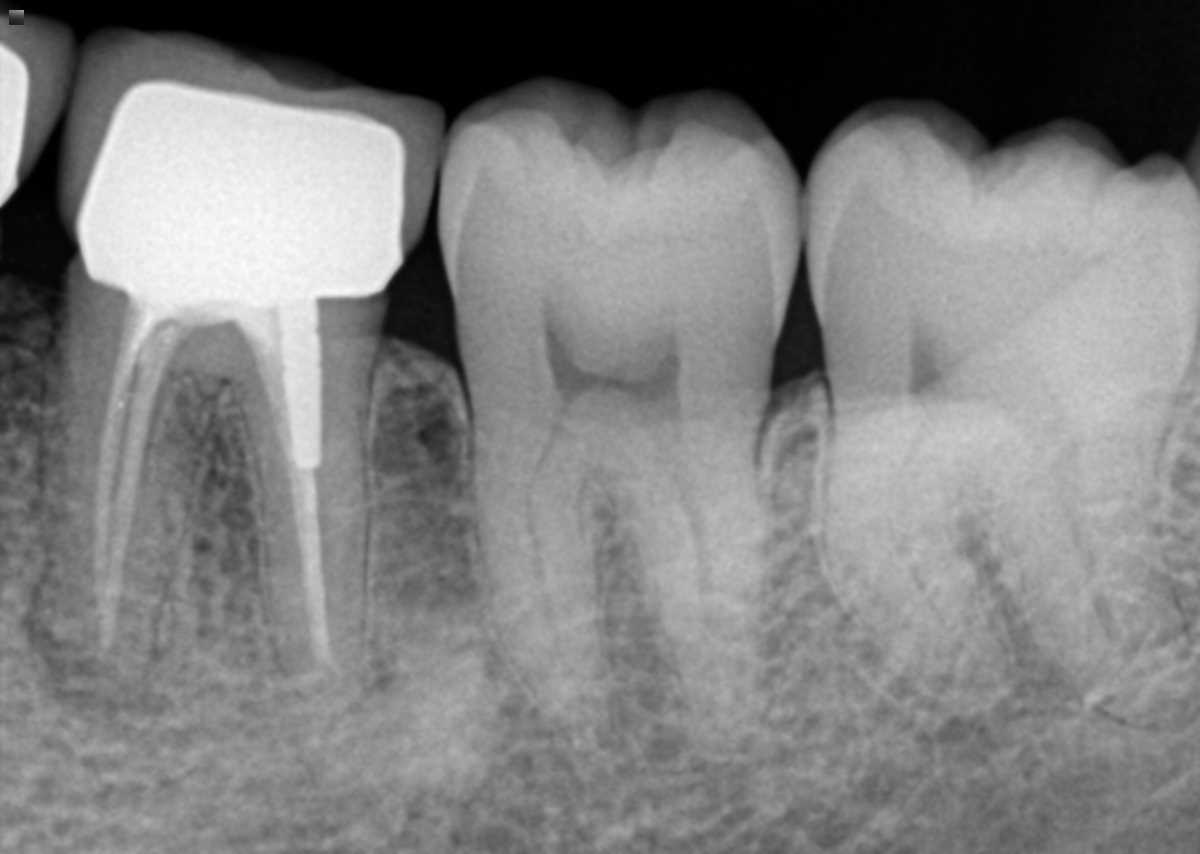Apical Lesion: (26, 579, 175, 734)
Distal Canal: (660, 460, 723, 707), (1051, 461, 1118, 643)
Distal Root: (989, 434, 1200, 736), (615, 435, 770, 745), (238, 379, 374, 694)
Mesial Canal: (887, 441, 975, 662), (522, 423, 585, 704)
Mesial Root: (39, 324, 216, 673), (818, 396, 1010, 689), (465, 390, 612, 725)
Root Canal Filling: (286, 464, 341, 679)
